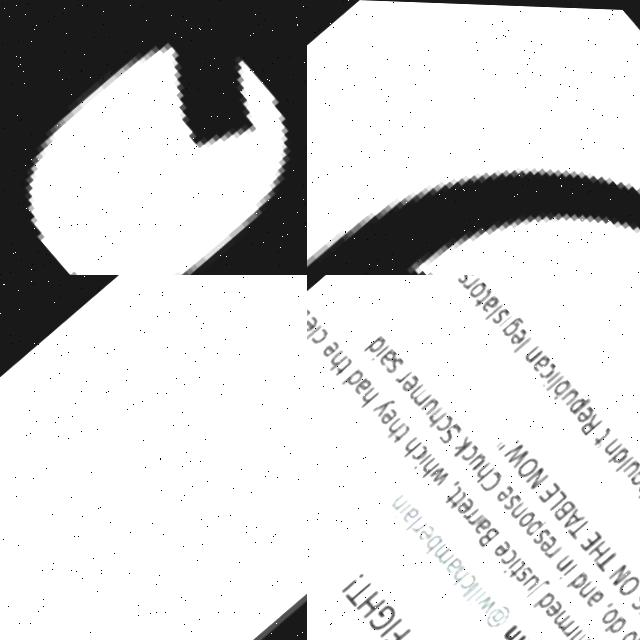9: (307, 17, 640, 275)
A: (562, 504, 589, 530), (377, 344, 401, 367), (587, 584, 611, 607), (480, 290, 504, 313), (353, 374, 376, 397), (474, 512, 497, 534), (531, 349, 554, 371), (446, 553, 468, 574), (403, 503, 424, 524), (517, 632, 542, 640), (307, 303, 314, 325)
B: (548, 374, 575, 399), (422, 530, 447, 554), (480, 522, 504, 546), (555, 495, 578, 518)
C: (479, 465, 507, 493), (461, 439, 484, 462), (435, 411, 457, 433), (462, 569, 483, 590), (412, 441, 433, 462), (309, 325, 331, 345), (503, 544, 523, 564), (538, 359, 558, 379)
D: (341, 364, 369, 390), (534, 586, 561, 612), (361, 332, 388, 358), (606, 611, 631, 636), (608, 442, 633, 467), (569, 567, 593, 592)
E: (495, 478, 522, 504), (455, 490, 480, 515), (539, 477, 564, 502), (581, 525, 606, 550), (507, 322, 532, 347), (400, 370, 424, 393), (321, 336, 344, 359), (546, 595, 570, 617), (379, 404, 403, 426), (494, 535, 518, 557), (576, 400, 598, 423), (539, 530, 561, 552), (419, 521, 441, 542), (307, 311, 322, 333)
F: (386, 619, 414, 640), (570, 626, 592, 640)
G: (369, 599, 403, 633), (502, 311, 527, 336)
H: (358, 588, 391, 619), (471, 458, 498, 484), (588, 534, 615, 560), (355, 382, 381, 407), (423, 403, 449, 428), (450, 560, 475, 585), (400, 433, 425, 458), (383, 414, 408, 438), (325, 347, 349, 370), (419, 454, 442, 477), (633, 472, 640, 496)
I: (382, 614, 407, 638), (504, 551, 527, 573), (393, 499, 416, 520), (559, 559, 582, 580), (415, 449, 435, 469), (493, 311, 513, 331), (370, 342, 391, 361), (472, 586, 492, 605), (542, 366, 562, 385), (567, 623, 587, 640), (508, 630, 531, 640)
J: (529, 575, 555, 600)
K: (451, 431, 476, 455)
L: (0, 275, 307, 640), (547, 486, 570, 508), (406, 511, 427, 531), (615, 450, 636, 470), (512, 333, 533, 353), (468, 581, 488, 601), (484, 300, 505, 319), (545, 371, 565, 390), (465, 578, 485, 596), (307, 321, 324, 341)
M: (407, 380, 435, 408), (434, 538, 461, 565), (554, 603, 580, 629)
N: (609, 556, 637, 584), (527, 463, 552, 488), (603, 432, 627, 455), (579, 576, 601, 598), (524, 340, 546, 362), (556, 550, 578, 571), (504, 620, 526, 640), (512, 497, 532, 518), (392, 490, 412, 509), (579, 631, 600, 640)
O: (516, 451, 543, 478), (618, 568, 640, 596), (467, 276, 491, 299), (602, 601, 625, 624), (518, 505, 540, 526), (621, 623, 640, 640), (630, 462, 640, 483)
P: (526, 511, 551, 536), (568, 389, 594, 413)
Q: (0, 0, 307, 275)
R: (579, 408, 606, 434), (393, 364, 415, 385), (464, 500, 484, 520), (547, 539, 565, 557), (469, 507, 488, 524), (566, 618, 585, 635), (415, 515, 432, 531), (462, 275, 480, 289)
S: (440, 420, 464, 444), (532, 521, 556, 544), (384, 351, 407, 374), (490, 302, 513, 325), (503, 490, 525, 510), (517, 561, 538, 581), (455, 275, 478, 284), (632, 584, 640, 607)
T: (347, 574, 381, 606), (568, 511, 596, 539), (596, 543, 624, 571), (592, 421, 617, 445), (331, 354, 356, 377), (508, 555, 532, 578), (392, 421, 414, 444), (472, 285, 495, 307), (445, 481, 467, 502), (450, 488, 471, 508), (625, 633, 640, 640)
U: (523, 568, 547, 591), (560, 382, 583, 405), (468, 449, 489, 470), (422, 394, 442, 414), (623, 454, 640, 474)
W: (503, 437, 534, 468), (429, 461, 456, 486), (477, 589, 503, 614)
Y: (374, 391, 399, 416)
